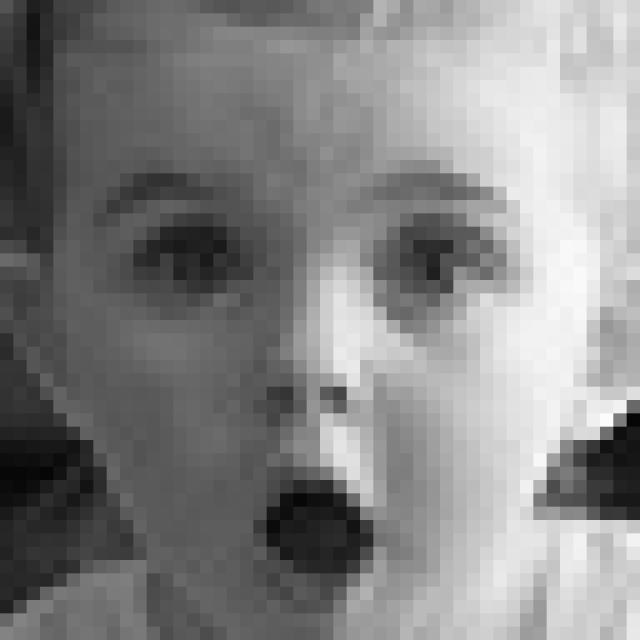surprise: (83, 156, 534, 603)
